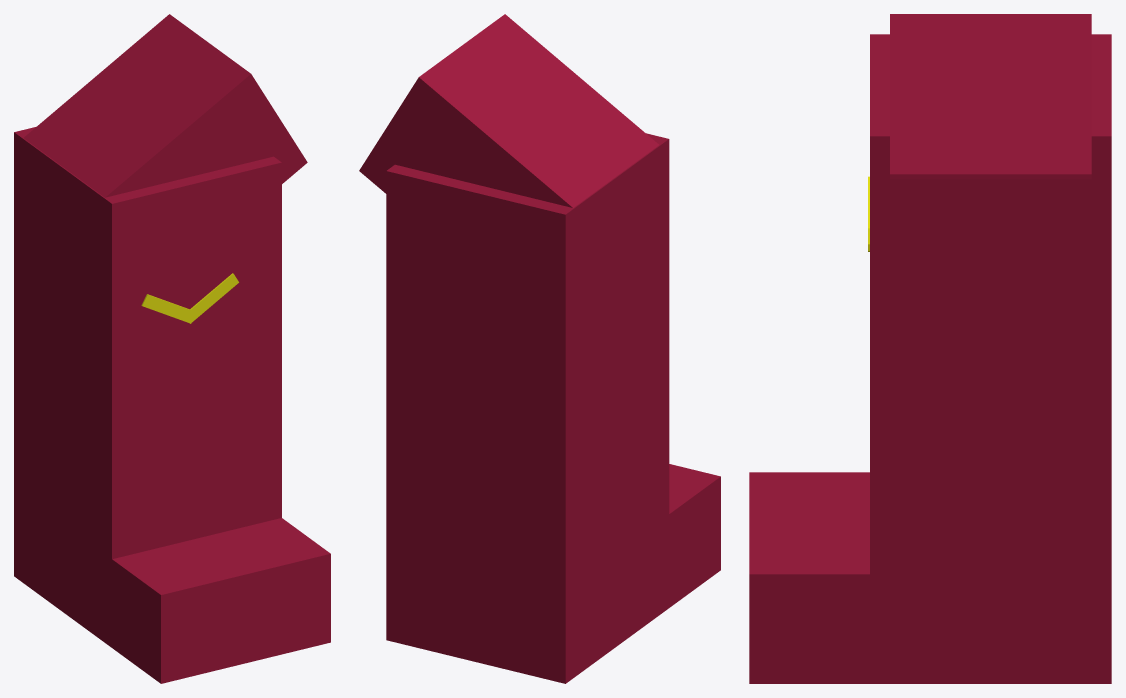
File: DaemonRightLeg.fbx
3 renders of one model, left to right at view 1: azimuth 30°, elevation 25°; view 2: azimuth 150°, elevation 25°; view 3: azimuth 270°, elevation 25°, orthographic. The views are drawn at different scales.
Visible parts, largest first — view 1: Cube.001, Cube.004; view 2: Cube.001; view 3: Cube.001.
Boxes of the visible parts, left/top/right/bottom form: Cube.001: left=14, top=14, right=330, bottom=683; Cube.004: left=141, top=273, right=238, bottom=323; Cube.001: left=359, top=14, right=720, bottom=683; Cube.001: left=749, top=14, right=1111, bottom=683.
Size of the model in its own units: 72.02 by 180 by 90.
